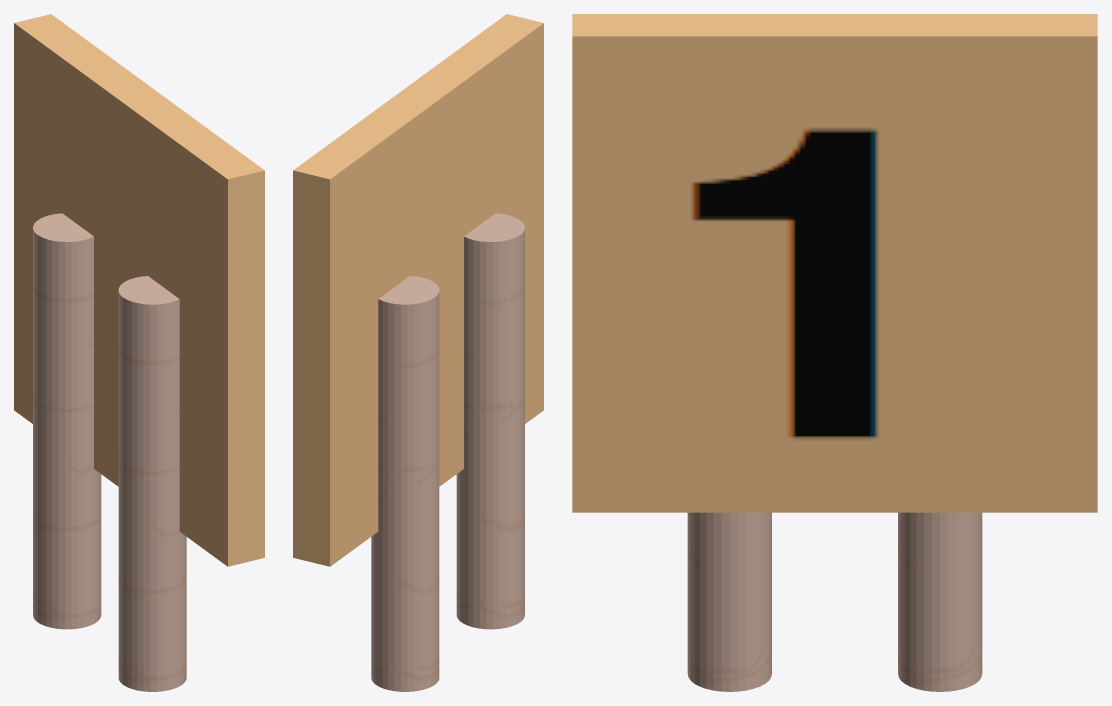
The model's file is Signboard1.gltf.
The picture shows the model from 3 angles, left to right: view 1: azimuth 30°, elevation 25°; view 2: azimuth 150°, elevation 25°; view 3: azimuth 270°, elevation 25°; orthographic projection. The views are drawn at different scales.
Visible parts, largest first — view 1: Cube, Cylinder.001, Cylinder; view 2: Cube, Cylinder, Cylinder.001; view 3: Cube, Cylinder, Cylinder.001.
Boxes of the visible parts, left/top/right/bottom form: Cube: left=14, top=14, right=264, bottom=566; Cylinder.001: left=118, top=276, right=186, bottom=691; Cylinder: left=33, top=213, right=101, bottom=629; Cube: left=293, top=14, right=543, bottom=566; Cylinder: left=371, top=276, right=439, bottom=691; Cylinder.001: left=456, top=213, right=524, bottom=629; Cube: left=572, top=14, right=1097, bottom=512; Cylinder: left=898, top=512, right=982, bottom=691; Cylinder.001: left=687, top=512, right=771, bottom=691.
Size of the model in its own units: 0.21 by 1.4 by 1.
Materials: 2 (2 with a texture image).
